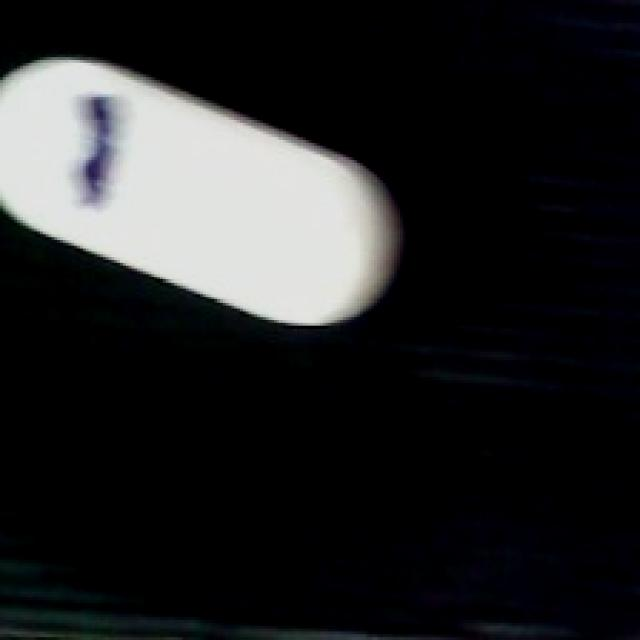defected: (3, 51, 414, 332)
